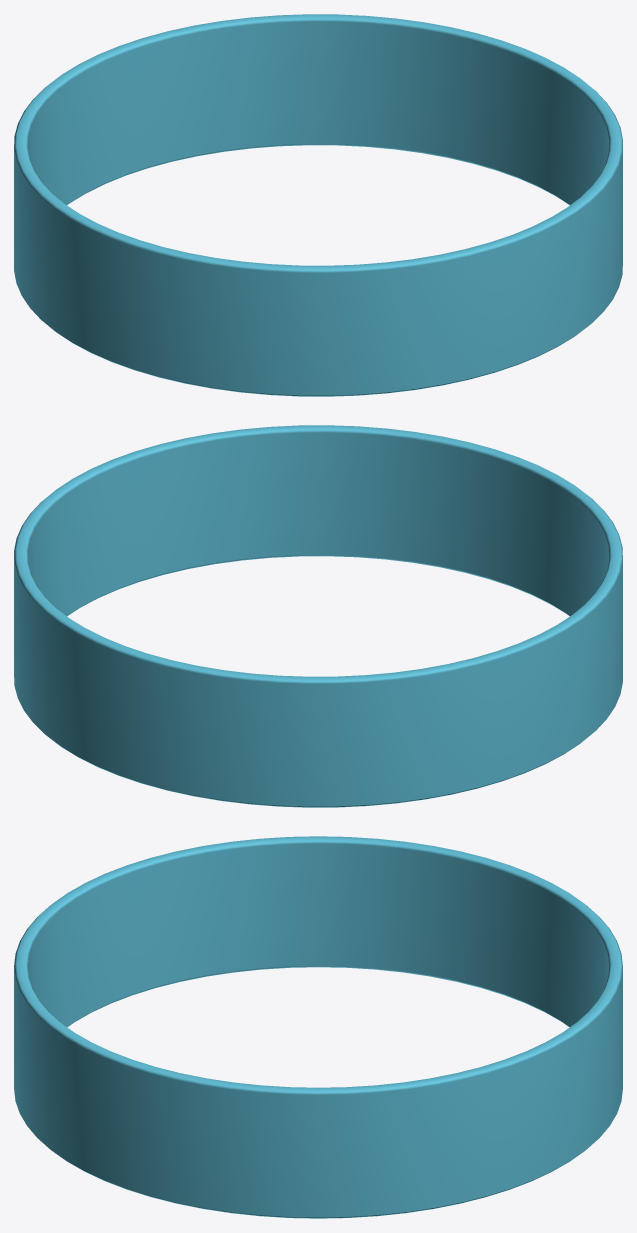
3 renders of one model, top to bottom at view 1: azimuth 30°, elevation 25°; view 2: azimuth 150°, elevation 25°; view 3: azimuth 270°, elevation 25°, orthographic.
Parts seen in each view (by area): view 1: seal_body; view 2: seal_body; view 3: seal_body.
Boxes of the visible parts, x1,y1,x2,y2 form: seal_body: (14,14,622,396); seal_body: (14,425,622,807); seal_body: (14,836,622,1218).
Size of the model in its own units: 0.065 by 0.015 by 0.065.
